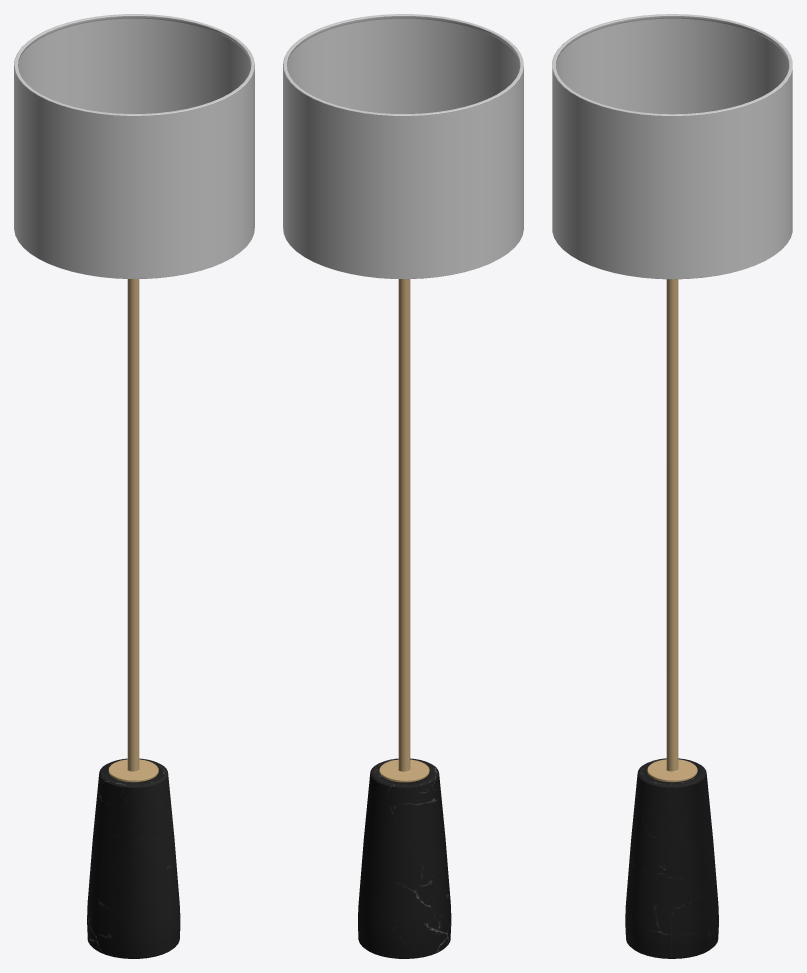
3 views of the same model, side by side, from view 1: azimuth 30°, elevation 25°; view 2: azimuth 150°, elevation 25°; view 3: azimuth 270°, elevation 25° (orthographic).
Visible parts, largest first — view 1: Rita_Floor_Lamp_BlackMarble_and_Brass_LAMP_SHADE_0, Rita_Floor_Lamp_BlackMarble_and_Brass_MARBLE_0, Rita_Floor_Lamp_BlackMarble_and_Brass_BRASS_0; view 2: Rita_Floor_Lamp_BlackMarble_and_Brass_LAMP_SHADE_0, Rita_Floor_Lamp_BlackMarble_and_Brass_MARBLE_0, Rita_Floor_Lamp_BlackMarble_and_Brass_BRASS_0; view 3: Rita_Floor_Lamp_BlackMarble_and_Brass_LAMP_SHADE_0, Rita_Floor_Lamp_BlackMarble_and_Brass_MARBLE_0, Rita_Floor_Lamp_BlackMarble_and_Brass_BRASS_0.
Part boxes in pixels (x1,y1,x2,y2): Rita_Floor_Lamp_BlackMarble_and_Brass_LAMP_SHADE_0: (14,14,254,278); Rita_Floor_Lamp_BlackMarble_and_Brass_MARBLE_0: (87,758,180,958); Rita_Floor_Lamp_BlackMarble_and_Brass_BRASS_0: (108,279,158,782); Rita_Floor_Lamp_BlackMarble_and_Brass_LAMP_SHADE_0: (283,14,523,279); Rita_Floor_Lamp_BlackMarble_and_Brass_MARBLE_0: (358,758,451,958); Rita_Floor_Lamp_BlackMarble_and_Brass_BRASS_0: (379,279,429,782); Rita_Floor_Lamp_BlackMarble_and_Brass_LAMP_SHADE_0: (552,14,792,279); Rita_Floor_Lamp_BlackMarble_and_Brass_MARBLE_0: (625,758,718,958); Rita_Floor_Lamp_BlackMarble_and_Brass_BRASS_0: (647,279,697,782).
Size of what is drawn, in the model's own units: 40 by 160 by 39.92.
Materials: 4 (1 with a texture image).
